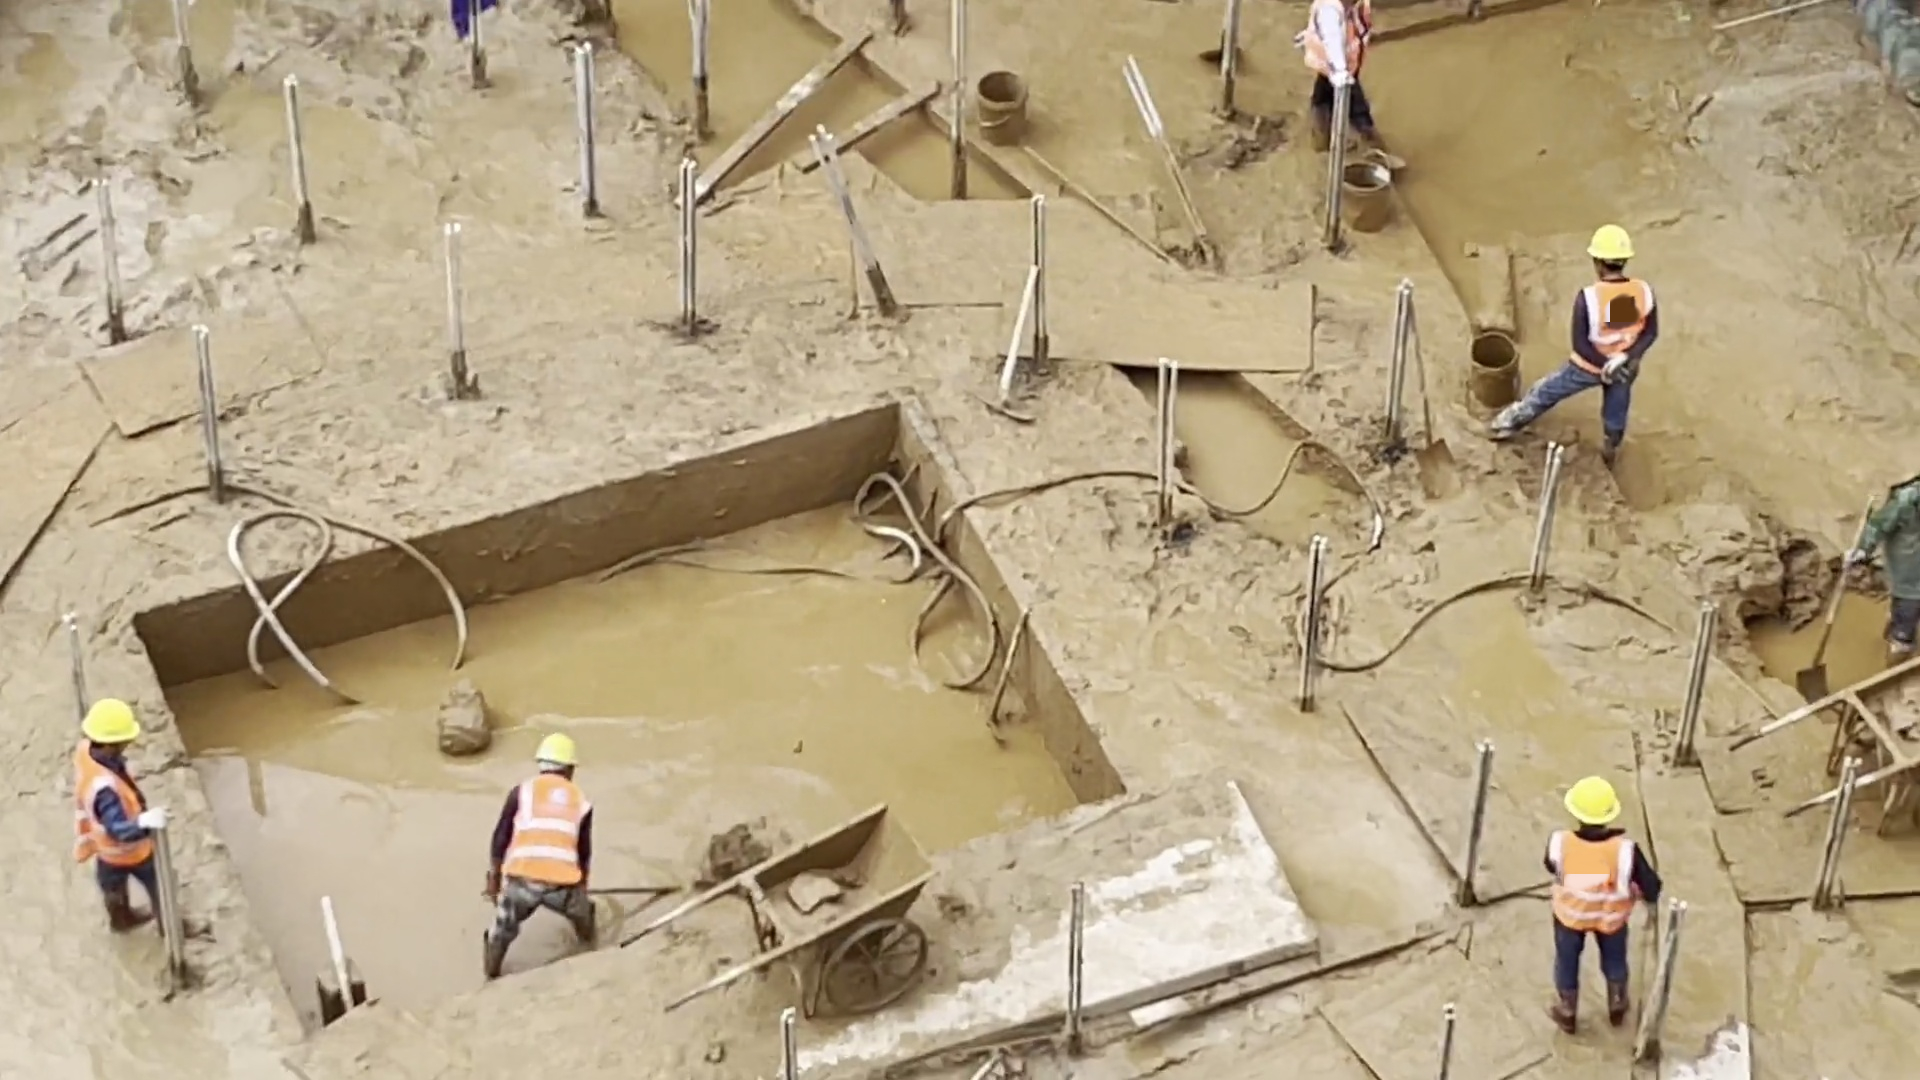handcart: (624, 801, 937, 1025), (1729, 658, 1920, 839)
helmet: (1563, 771, 1623, 825), (79, 695, 142, 744), (1585, 224, 1640, 259), (532, 734, 580, 767)
person: (1489, 217, 1664, 470), (64, 694, 213, 939), (1537, 774, 1666, 1043), (478, 732, 604, 986), (1290, 1, 1397, 163)
vest: (508, 761, 586, 886), (73, 747, 151, 868), (1555, 825, 1637, 936), (1570, 277, 1652, 374)
